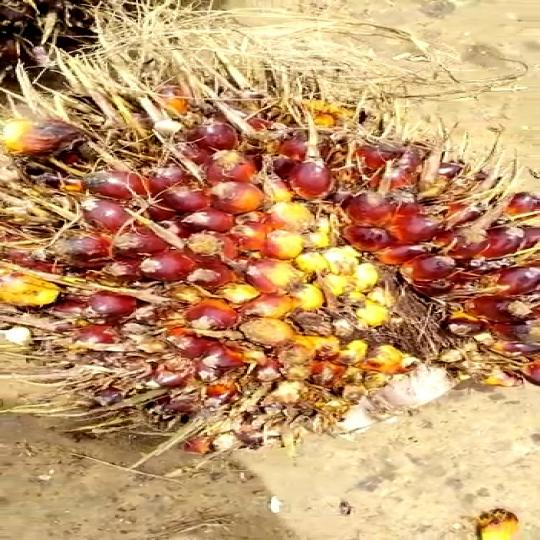masak: (0, 68, 540, 459)
